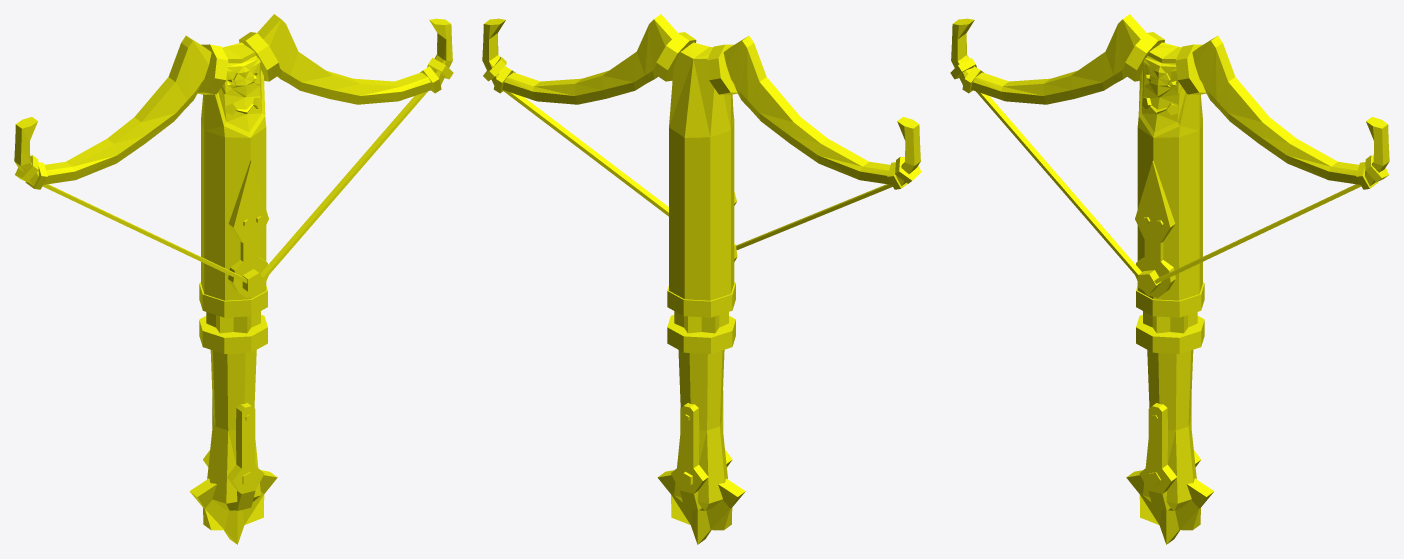
Rendered from _crossbow_20.glb.
3 views of the same model, side by side, from view 1: azimuth 30°, elevation 25°; view 2: azimuth 150°, elevation 25°; view 3: azimuth 330°, elevation 25° (orthographic).
Visible parts, largest first — view 1: crossbow_20; view 2: crossbow_20; view 3: crossbow_20.
Part boxes in pixels (x1=…): crossbow_20: x1=14, y1=14, x2=453, y2=544; crossbow_20: x1=482, y1=14, x2=921, y2=544; crossbow_20: x1=950, y1=14, x2=1389, y2=544.
Size of the model in its own units: 0.5951 by 0.6772 by 0.0982.
1 material, 1 textured.
